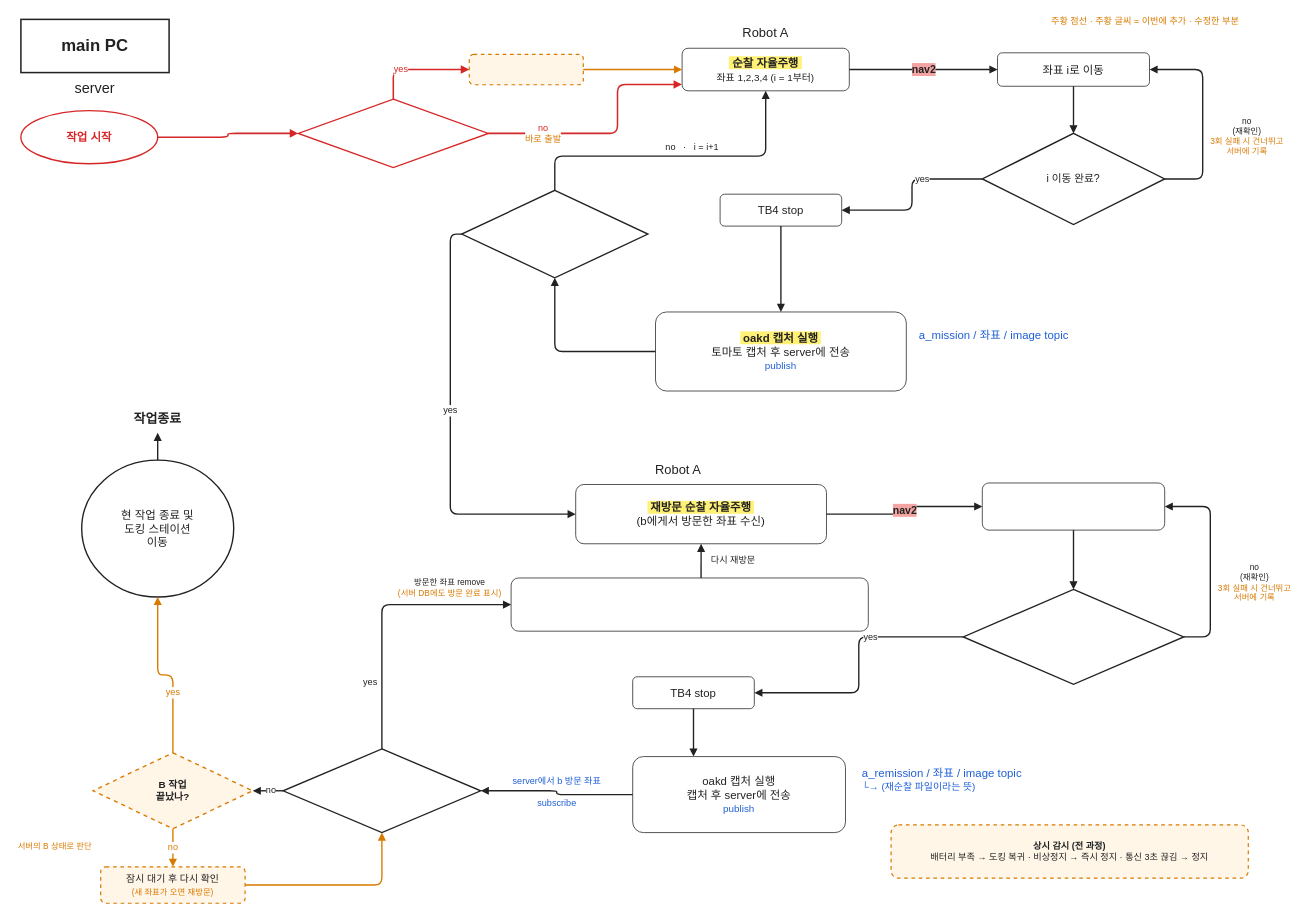
Some shapes in this 1303 by 917 pixel diagram are drawn without their labels. The shapes that lost their labels are listed below. From the top down, each one's box as (x1, y1, x2, y2) in pixels, then its label:
(468, 53, 584, 85): 언도킹 (/undock)
(297, 98, 489, 168): is docked? (dock_status · is_docked)
(461, 189, 648, 278): i = final sector?
(981, 482, 1165, 530): remission_list에 남은 좌표로 이동
(510, 577, 868, 631): visit subscriber (remission_list에 좌표 저장) DB에서 받아오기
(962, 588, 1184, 685): list 좌표 이동 완료?
(282, 748, 481, 833): list에 남은 좌표?
